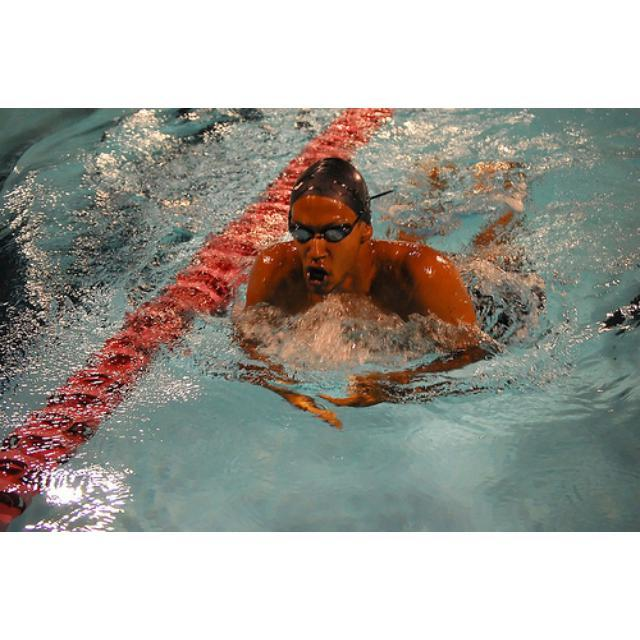human: (237, 153, 536, 432)
